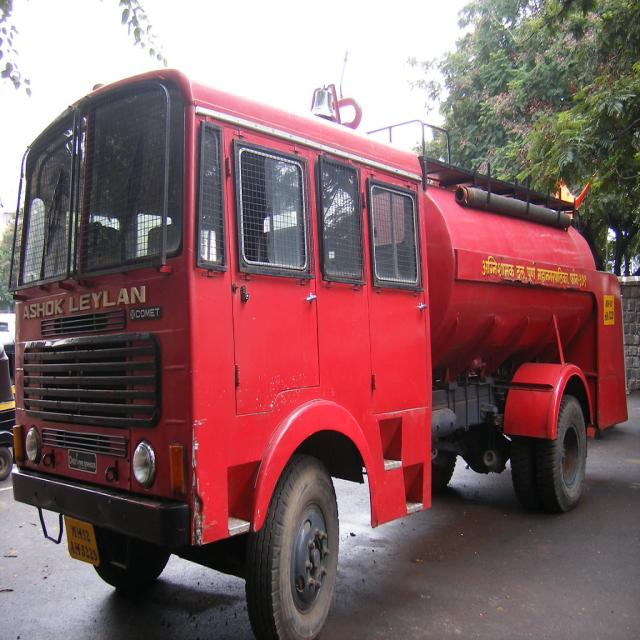emergency: (10, 70, 629, 638)
